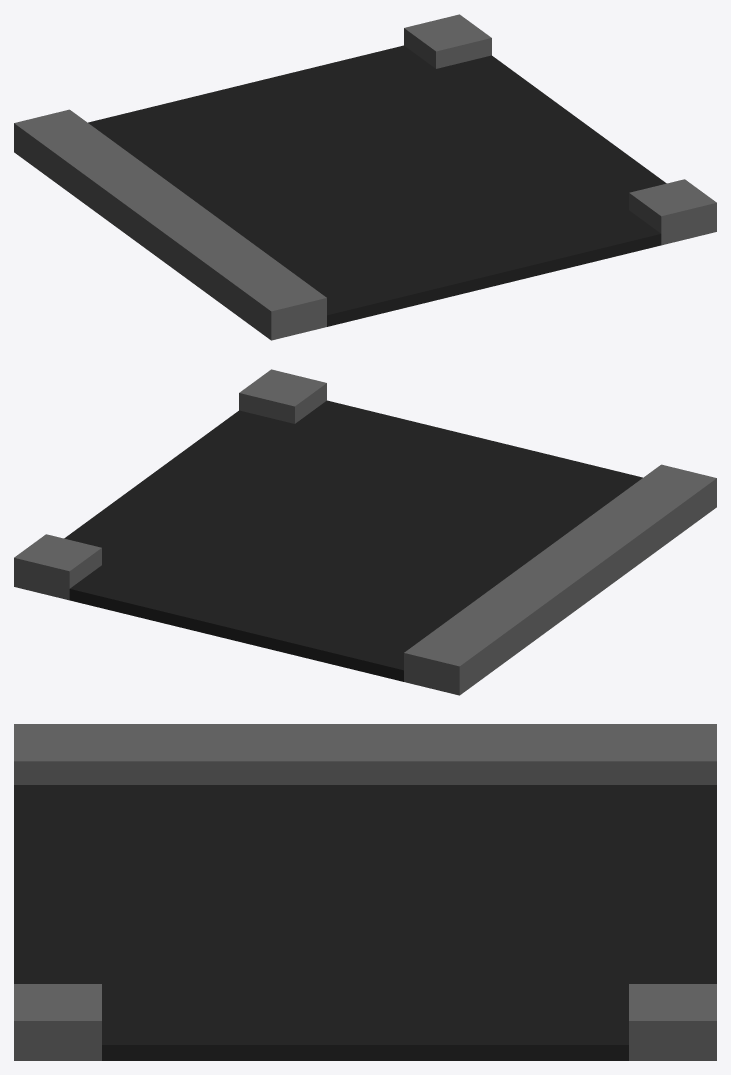
Rendered from RoadT.fbx.
3 views of the same model, one above another, from view 1: azimuth 30°, elevation 25°; view 2: azimuth 150°, elevation 25°; view 3: azimuth 270°, elevation 25° (orthographic). The views are drawn at different scales.
Parts seen in each view (by area): view 1: RoatT; view 2: RoatT; view 3: RoatT.
Part boxes in pixels (box(x1,y1,x2,y2)): RoatT: box(14, 14, 716, 340); RoatT: box(14, 369, 716, 695); RoatT: box(14, 724, 716, 1060).
Size of the model in its own units: 80 by 5 by 80.
